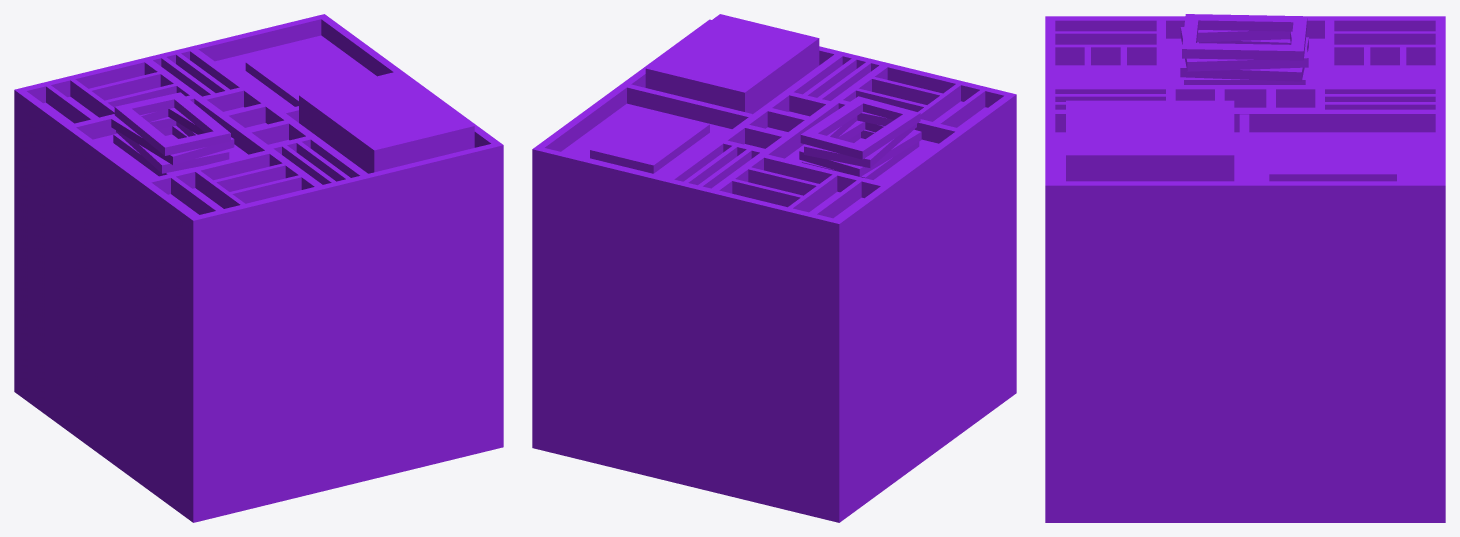
Rendered from typesettingtable.obj.
3 renders of one model, left to right at view 1: azimuth 30°, elevation 25°; view 2: azimuth 150°, elevation 25°; view 3: azimuth 270°, elevation 25°, orthographic. The views are drawn at different scales.
Visible parts, largest first — view 1: base, bookRed, plateRight, chase4, chase3, chase2, chase1; view 2: base, bookRed, plateRight, chase4, chase3, chase2, chase1; view 3: base, bookRed, plateRight, chase4, chase3, chase2, chase1.
Boxes of the visible parts, left/top/right/bottom form: base: left=14, top=14, right=503, bottom=522; bookRed: left=299, top=71, right=474, bottom=173; plateRight: left=245, top=46, right=356, bottom=106; chase4: left=114, top=92, right=230, bottom=155; chase3: left=111, top=108, right=234, bottom=164; chase2: left=116, top=117, right=229, bottom=173; chase1: left=113, top=125, right=231, bottom=176; base: left=532, top=19, right=1016, bottom=522; bookRed: left=645, top=14, right=819, bottom=113; plateRight: left=590, top=108, right=709, bottom=173; chase4: left=800, top=96, right=920, bottom=159; chase3: left=804, top=112, right=916, bottom=168; chase2: left=799, top=120, right=921, bottom=176; chase1: left=801, top=129, right=919, bottom=179; base: left=1045, top=16, right=1445, bottom=522; bookRed: left=1066, top=100, right=1234, bottom=181; plateRight: left=1269, top=139, right=1396, bottom=181; chase4: left=1182, top=14, right=1307, bottom=60; chase3: left=1180, top=27, right=1308, bottom=71; chase2: left=1180, top=37, right=1308, bottom=81; chase1: left=1184, top=67, right=1305, bottom=84.
Bounding box in the file's own units: 1 × 0.988 × 1.
